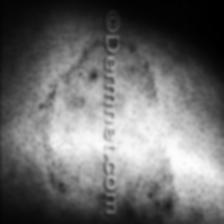Toxin: (40, 40, 176, 224)
